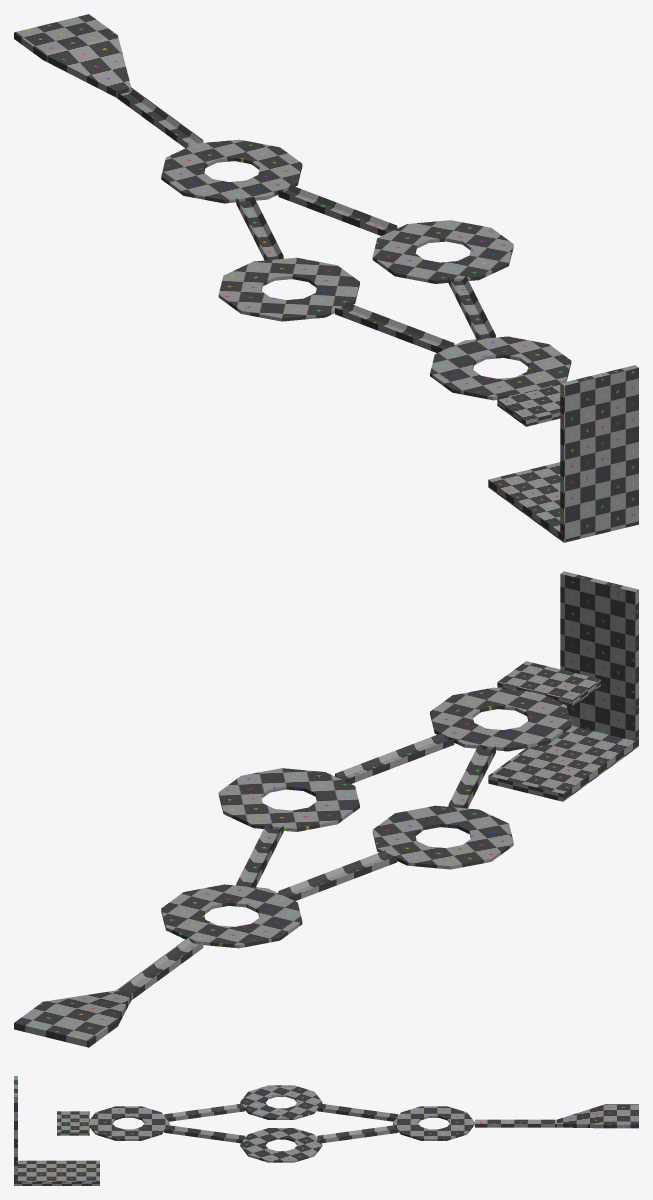
Rendered from track9.glb.
3 views of the same model, one above another, from view 1: azimuth 30°, elevation 25°; view 2: azimuth 150°, elevation 25°; view 3: azimuth 270°, elevation 25° (orthographic). The views are drawn at different scales.
Parts seen in each view (by area): view 1: Cube.004, Cube.002, Cylinder.004, Cylinder.002, Cylinder.003, Cylinder, Cube, Cube.003, Cube.001; view 2: Cube.004, Cube.002, Cylinder.003, Cylinder.002, Cylinder.004, Cylinder, Cube, Cube.003, Cube.001; view 3: Cube.002, Cube.004, Cylinder.002, Cylinder.003, Cylinder, Cylinder.004, Cube, Cube.003, Cube.001.
Part boxes in pixels (x1,y1,x2,y2): Cube.004: [488, 365, 638, 542]; Cube.002: [236, 185, 495, 352]; Cylinder.004: [218, 257, 359, 321]; Cylinder.002: [372, 220, 513, 283]; Cylinder.003: [161, 139, 302, 203]; Cylinder: [430, 336, 571, 400]; Cube: [14, 14, 130, 97]; Cube.003: [497, 384, 560, 426]; Cube.001: [116, 87, 203, 148]; Cube.004: [488, 571, 638, 801]; Cube.002: [236, 733, 495, 900]; Cylinder.003: [161, 884, 302, 948]; Cylinder.002: [218, 768, 359, 831]; Cylinder.004: [372, 805, 513, 869]; Cylinder: [430, 687, 571, 751]; Cube: [14, 990, 131, 1047]; Cube.003: [497, 661, 600, 706]; Cube.001: [116, 938, 203, 1000]; Cube.002: [164, 1103, 398, 1143]; Cube.004: [14, 1076, 99, 1185]; Cylinder.002: [240, 1128, 322, 1162]; Cylinder.003: [393, 1106, 474, 1140]; Cylinder: [89, 1106, 169, 1140]; Cylinder.004: [240, 1085, 322, 1119]; Cube: [557, 1104, 638, 1128]; Cube.003: [57, 1111, 89, 1135]; Cube.001: [475, 1119, 556, 1127].
Bounding box in the file's own units: 21.83 × 12 × 76.25.
1 material, 1 textured.
